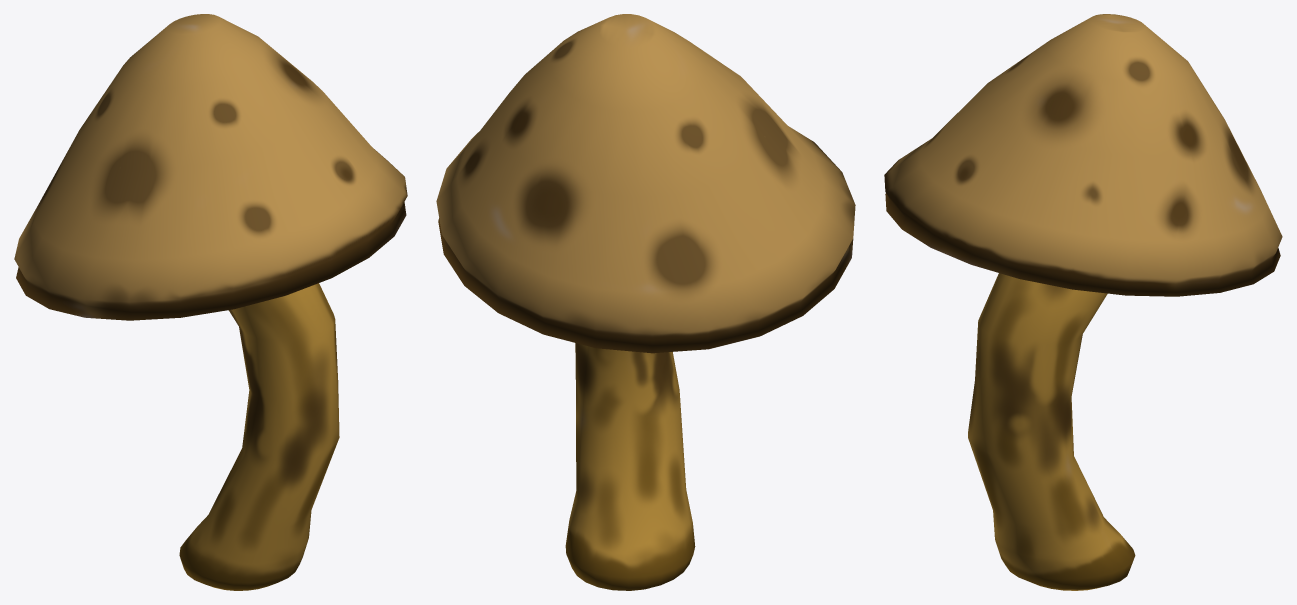
The model's file is Hongo_001_LOD.fbx.
The picture shows the model from 3 angles, left to right: view 1: azimuth 30°, elevation 25°; view 2: azimuth 150°, elevation 25°; view 3: azimuth 270°, elevation 25°; orthographic projection. The views are drawn at different scales.
Parts seen in each view (by area): view 1: Hongo_01_LOD0; view 2: Hongo_01_LOD0; view 3: Hongo_01_LOD0.
Part boxes in pixels (<box>): Hongo_01_LOD0: <box>14,14,407,590</box>; Hongo_01_LOD0: <box>436,14,855,590</box>; Hongo_01_LOD0: <box>884,14,1282,590</box>.
Size of what is drawn, in the model's own units: 496 by 750 by 494.
